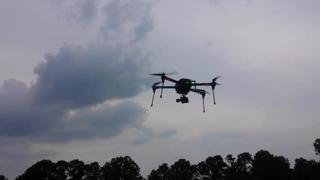UAV: (148, 70, 222, 113)
